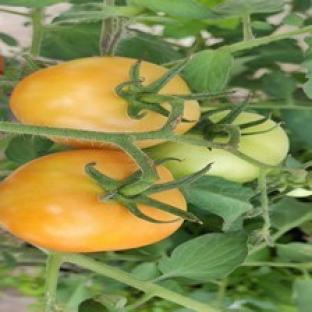Tomato: (0, 150, 182, 252), (10, 56, 167, 132), (148, 143, 259, 182)
